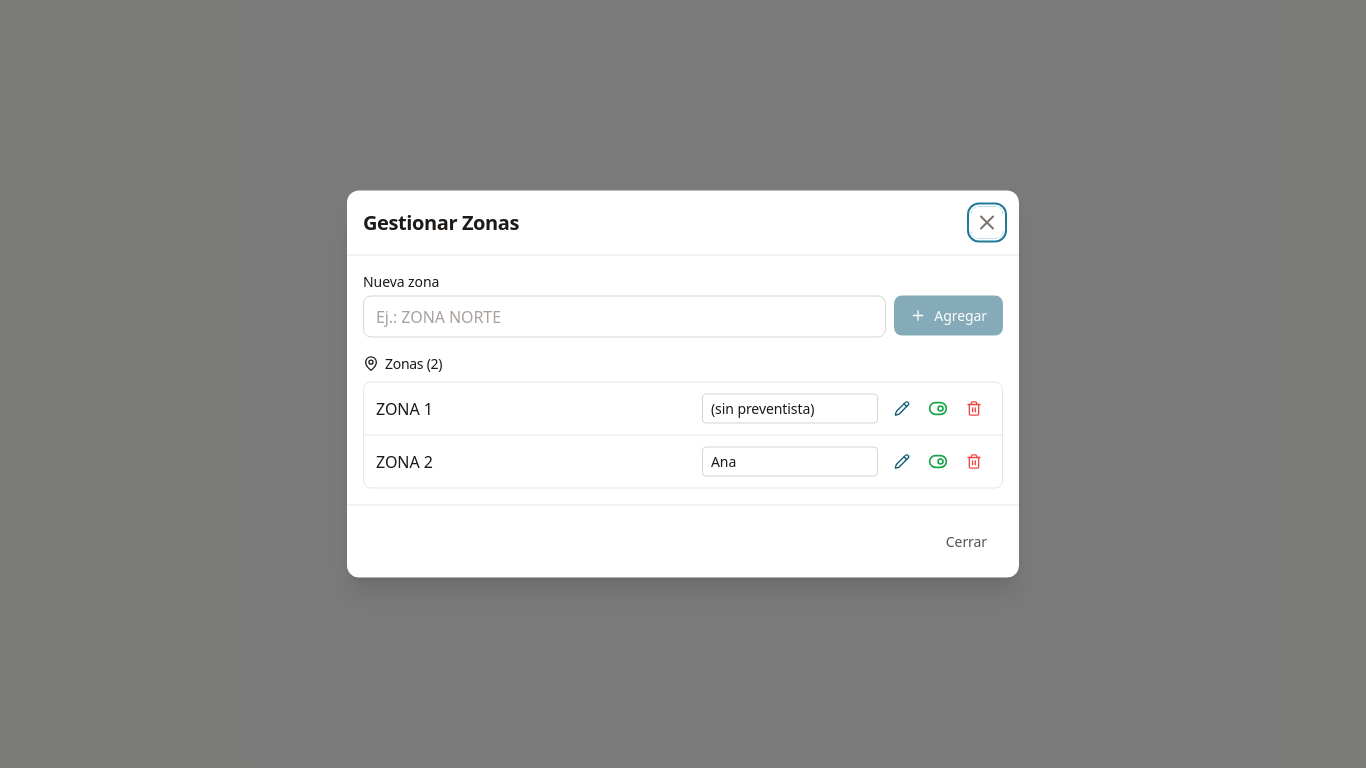
it: ModalZonas · preventista de la zona › si la simulación falla, lo dice y no abre la confirmación
Select "Caro" in the dropdown named "Preventista de ZONA 1" at (790, 408), box [702,394,878,424]
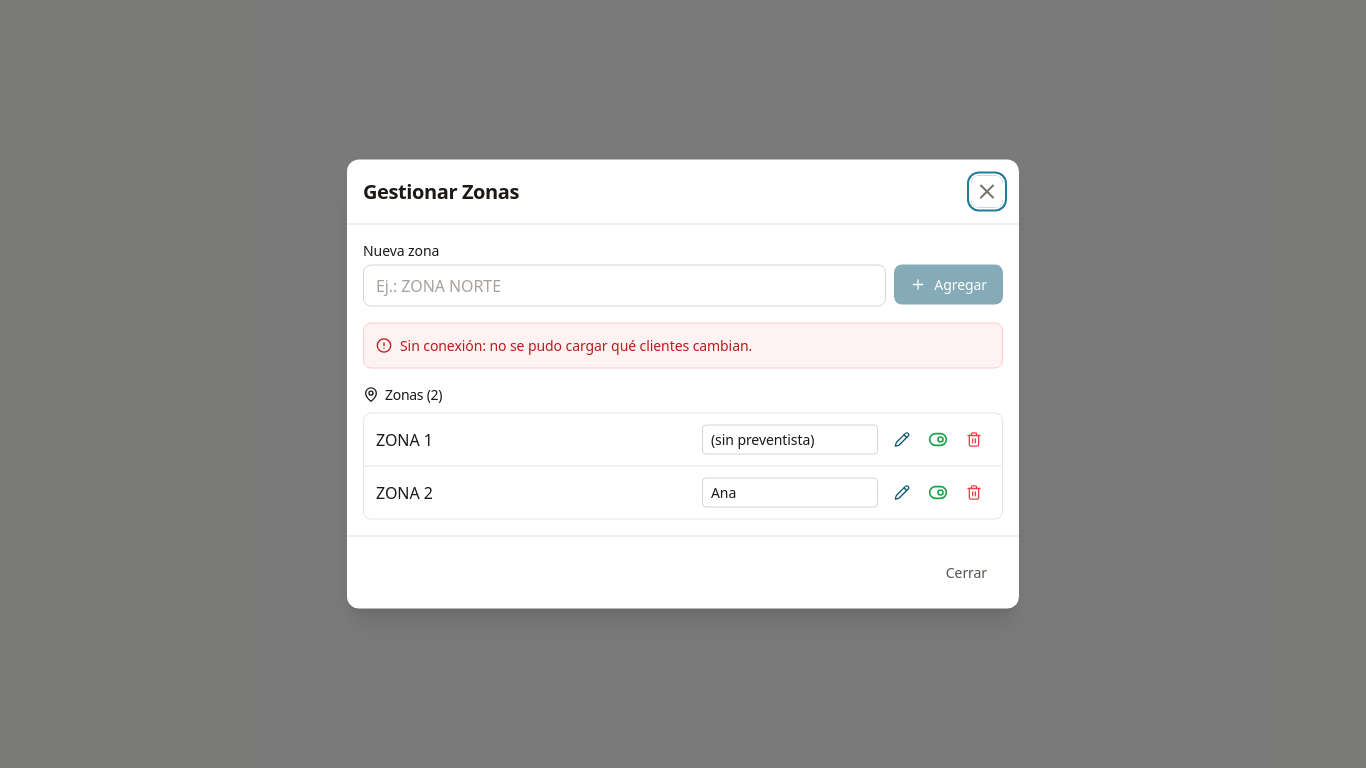
Result: the message shows "no se pudo cargar qué clientes cambian" at [400,336,752,354]
